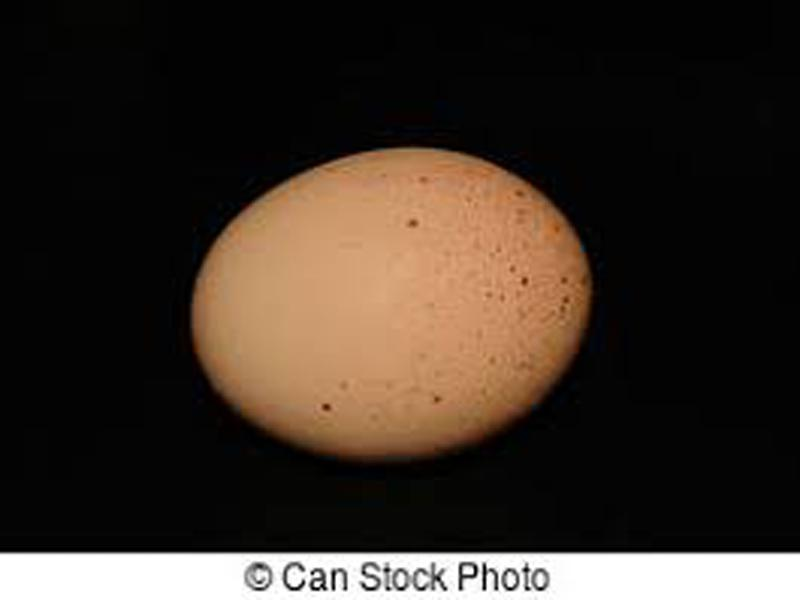Eggs: (190, 148, 589, 464)
